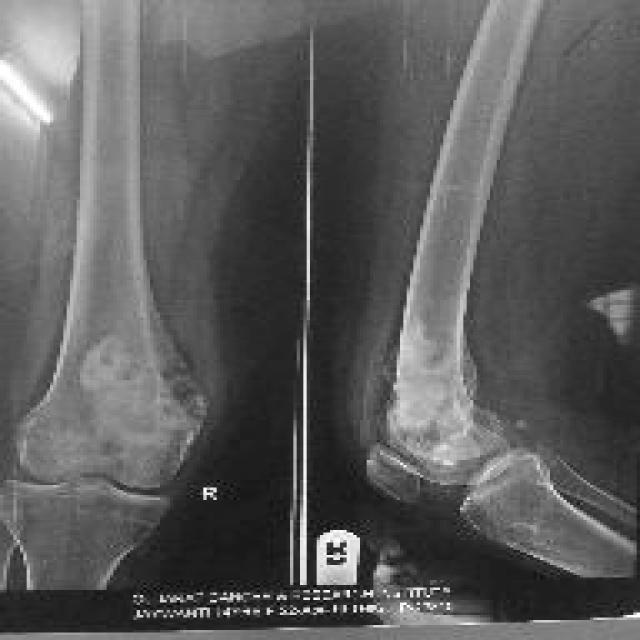bone-cancer: (78, 319, 207, 474), (376, 319, 498, 445)
